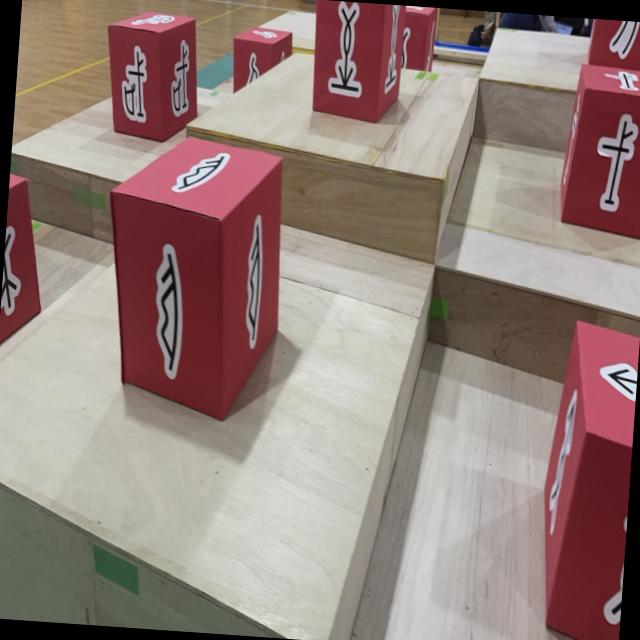10: (246, 50, 260, 86), (252, 27, 278, 40)
11: (148, 242, 189, 380), (241, 213, 265, 348), (171, 147, 230, 198)
12: (546, 388, 578, 536), (594, 360, 638, 402)
13: (424, 22, 434, 72)
3: (608, 19, 640, 61)
5: (118, 44, 151, 124), (169, 37, 193, 117), (128, 12, 174, 26)
6: (0, 224, 26, 316)
7: (326, 0, 366, 99), (384, 5, 402, 96)
9: (592, 110, 640, 213), (600, 68, 640, 93)
fighter: (94, 130, 290, 424), (532, 317, 640, 640), (557, 62, 640, 239), (100, 5, 204, 144), (307, 0, 405, 123), (0, 170, 49, 348), (230, 24, 294, 98), (585, 18, 640, 71), (401, 6, 438, 72)
